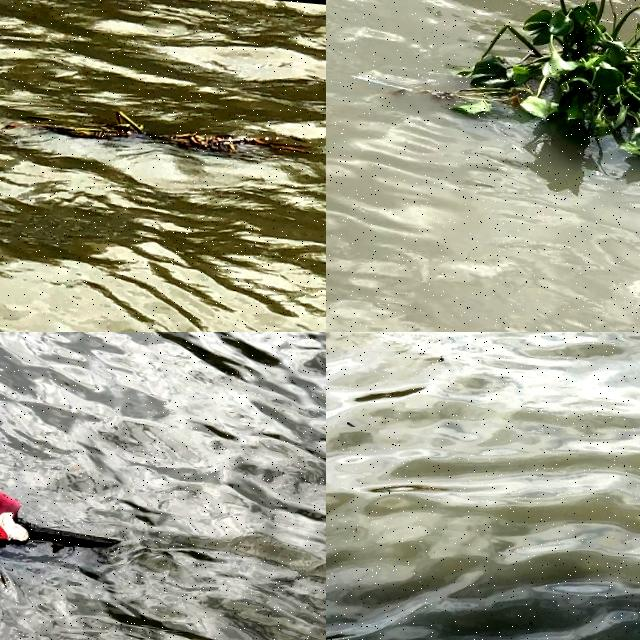water-hyacinth: (446, 1, 640, 180)
